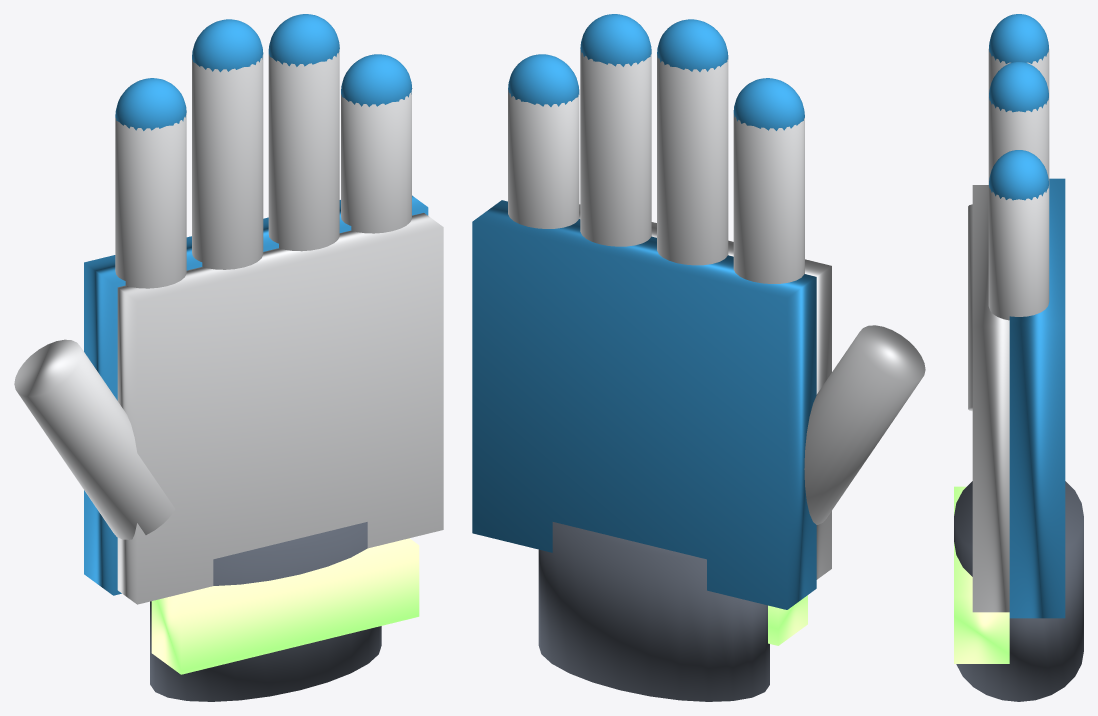
File: guante_portero.glb
3 views of the same model, side by side, from view 1: azimuth 30°, elevation 25°; view 2: azimuth 150°, elevation 25°; view 3: azimuth 270°, elevation 25° (orthographic). The views are drawn at different scales.
Visible parts, largest first — view 1: Palma_Latex, Correa_Cierre, Pulgar, Dedo_1, Munequera, Dedo_2, Dedo_0, Dedo_3, Dorso_Acolch, Punta_1, Punta_0, Punta_2 (+1 smaller); view 2: Dorso_Acolch, Munequera, Dedo_1, Dedo_2, Pulgar, Dedo_0, Dedo_3, Palma_Latex, Punta_0, Punta_1, Punta_2, Punta_3 (+1 smaller); view 3: Dorso_Acolch, Palma_Latex, Munequera, Dedo_3, Correa_Cierre, Dedo_2, Punta_2, Punta_3, Punta_1, Pulgar, Dedo_1.
Part boxes in pixels (box(x1,y1,x2,y2)): Palma_Latex: box(117, 213, 443, 604); Correa_Cierre: box(151, 538, 419, 674); Pulgar: box(14, 339, 175, 539); Dedo_1: box(192, 54, 263, 269); Munequera: box(150, 522, 381, 701); Dedo_2: box(268, 50, 339, 251); Dedo_0: box(115, 113, 186, 288); Dedo_3: box(341, 90, 411, 233); Dorso_Acolch: box(84, 195, 428, 595); Punta_1: box(192, 19, 263, 72); Punta_0: box(115, 78, 186, 130); Punta_2: box(268, 14, 339, 66); Dorso_Acolch: box(472, 200, 816, 609); Munequera: box(538, 522, 769, 701); Dedo_1: box(657, 54, 728, 265); Dedo_2: box(580, 49, 651, 246); Pulgar: box(804, 325, 925, 524); Dedo_0: box(733, 113, 804, 283); Dedo_3: box(508, 89, 579, 228); Palma_Latex: box(579, 204, 831, 579); Punta_0: box(733, 78, 804, 130); Punta_1: box(657, 19, 728, 71); Punta_2: box(580, 14, 651, 66); Punta_3: box(508, 54, 579, 106); Dorso_Acolch: box(1009, 178, 1065, 618); Palma_Latex: box(972, 185, 1009, 612); Munequera: box(954, 481, 1083, 701); Dedo_3: box(988, 185, 1049, 320); Correa_Cierre: box(954, 486, 1009, 663); Dedo_2: box(988, 97, 1049, 184); Punta_2: box(989, 62, 1048, 112); Punta_3: box(989, 150, 1048, 200); Punta_1: box(989, 14, 1048, 63); Pulgar: box(968, 204, 972, 411); Dedo_1: box(988, 49, 1049, 96).
Bounding box in the file's own units: 0.9732 × 1.46 × 0.28.
